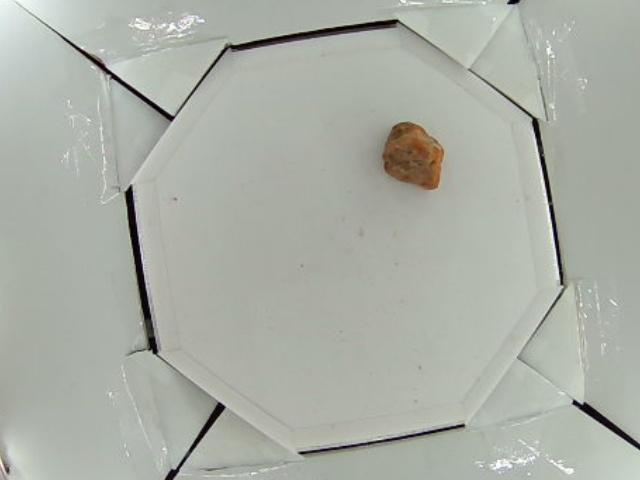Brisk: (382, 118, 444, 193)
